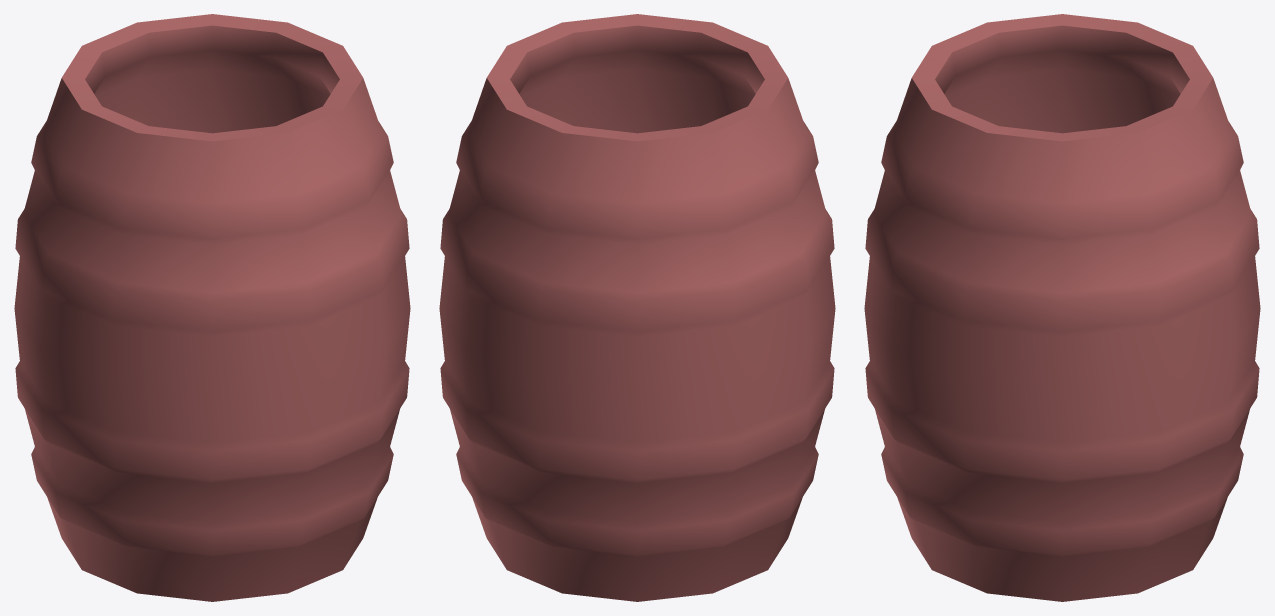
Rendered from Barrel_open.fbx.
3 renders of one model, left to right at view 1: azimuth 30°, elevation 25°; view 2: azimuth 150°, elevation 25°; view 3: azimuth 270°, elevation 25°, orthographic.
Visible parts, largest first — view 1: Barrel_open; view 2: Barrel_open; view 3: Barrel_open.
Part boxes in pixels (x1,y1,x2,y2): Barrel_open: [14, 14, 410, 601]; Barrel_open: [439, 14, 835, 601]; Barrel_open: [864, 14, 1260, 601].
Bounding box in the file's own units: 84.16 × 108 × 84.16.
